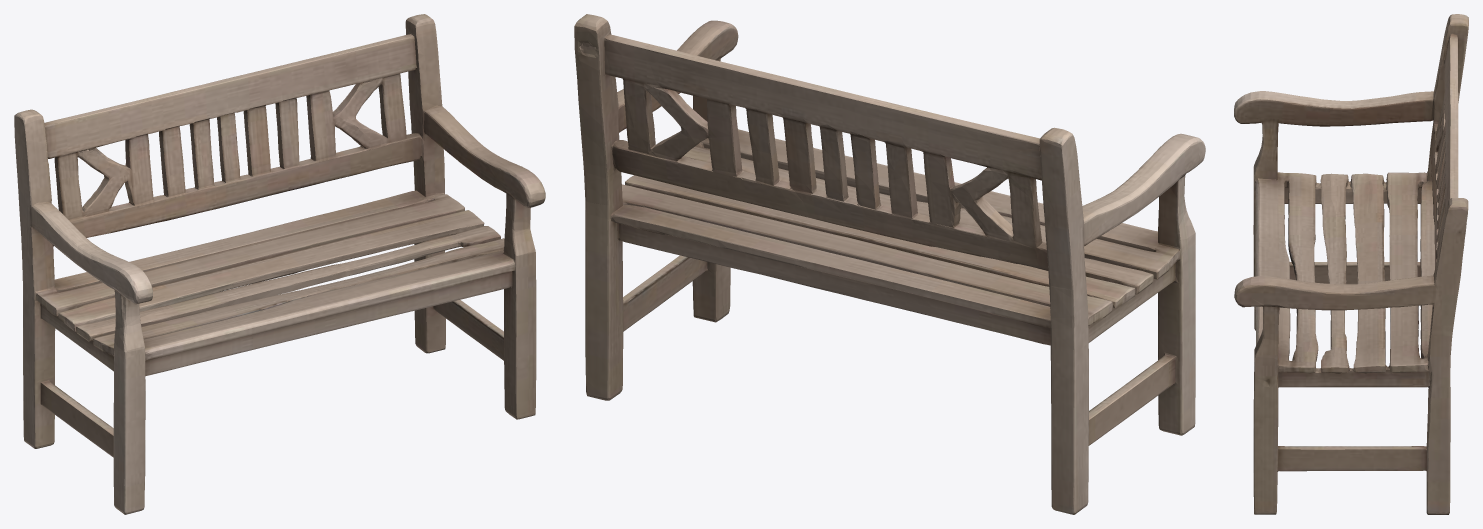
Rendered from bench.glb.
3 renders of one model, left to right at view 1: azimuth 30°, elevation 25°; view 2: azimuth 150°, elevation 25°; view 3: azimuth 270°, elevation 25°, orthographic. The views are drawn at different scales.
Visible parts, largest first — view 1: geometry_0; view 2: geometry_0; view 3: geometry_0.
Part boxes in pixels (x1,y1,x2,y2): geometry_0: [14, 14, 545, 514]; geometry_0: [574, 14, 1205, 514]; geometry_0: [1234, 14, 1468, 514].
Size of the model in its own units: 0.9945 by 0.746 by 0.5108.
1 material, 1 textured.
